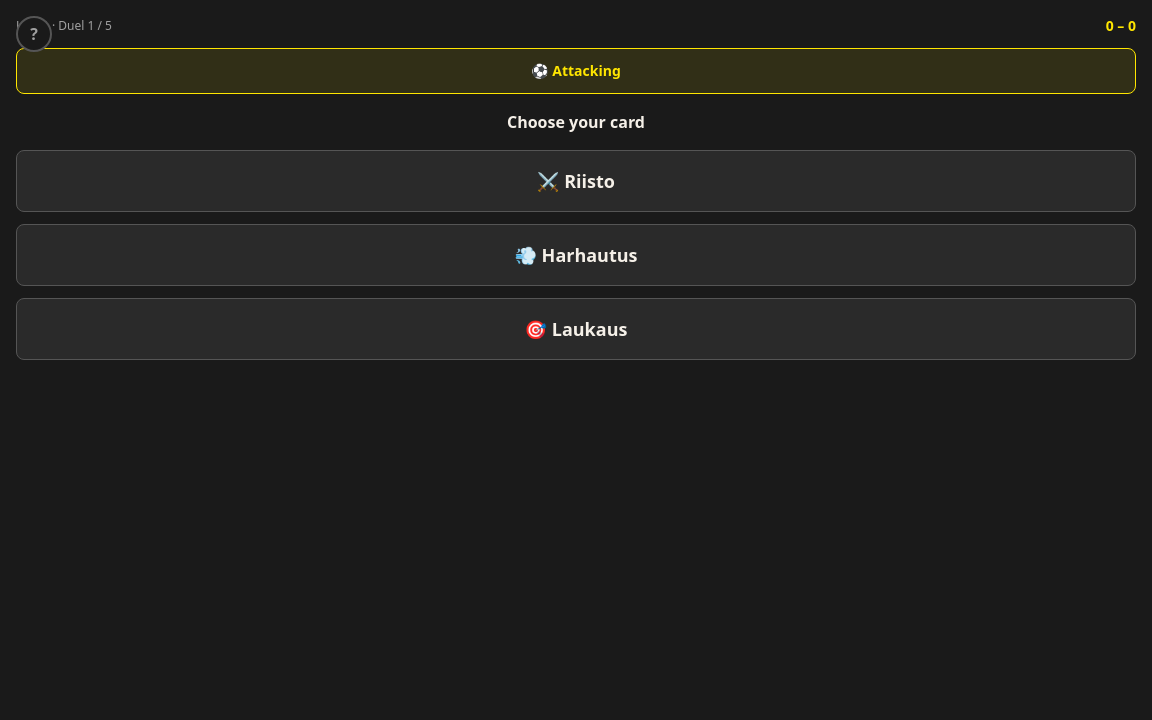
it: DerbyDuelScreen — help button › opens the help modal when ? is tapped
What coordinates should you click on to do the following:
click the button with test id "help-btn"
I would click on:
 (34, 34)
Its box is [16,16,52,52].
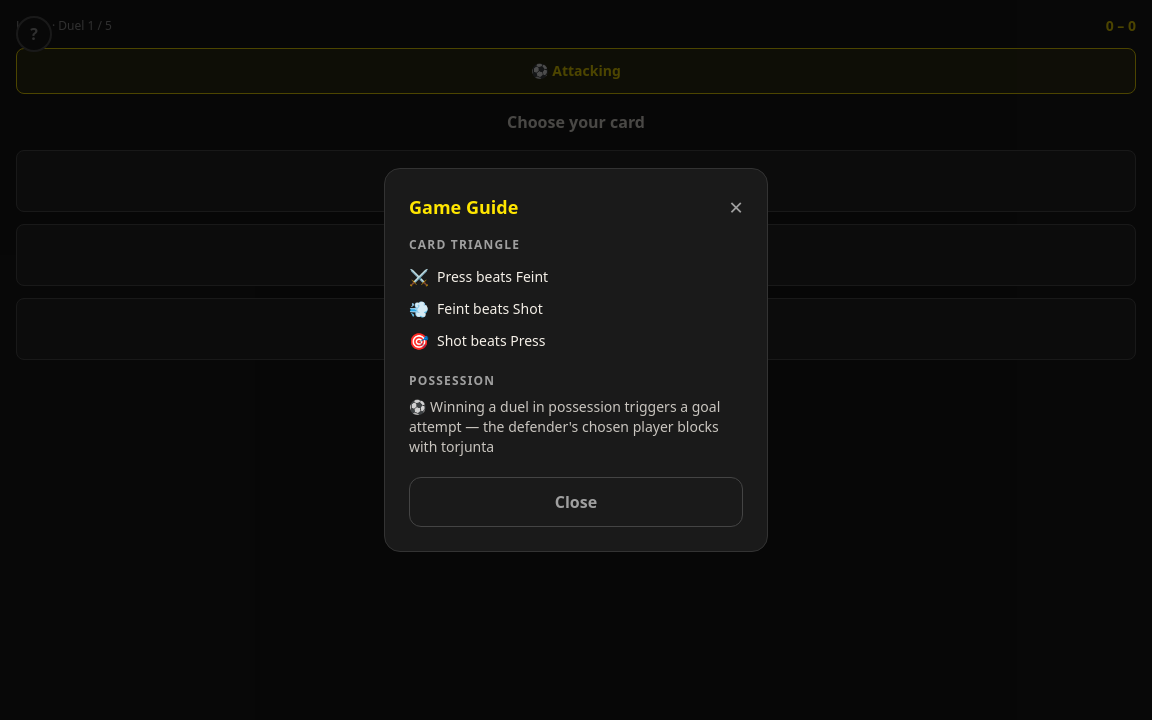
Now the dialog with test id "help-modal" is shown, box [384,168,768,552]
